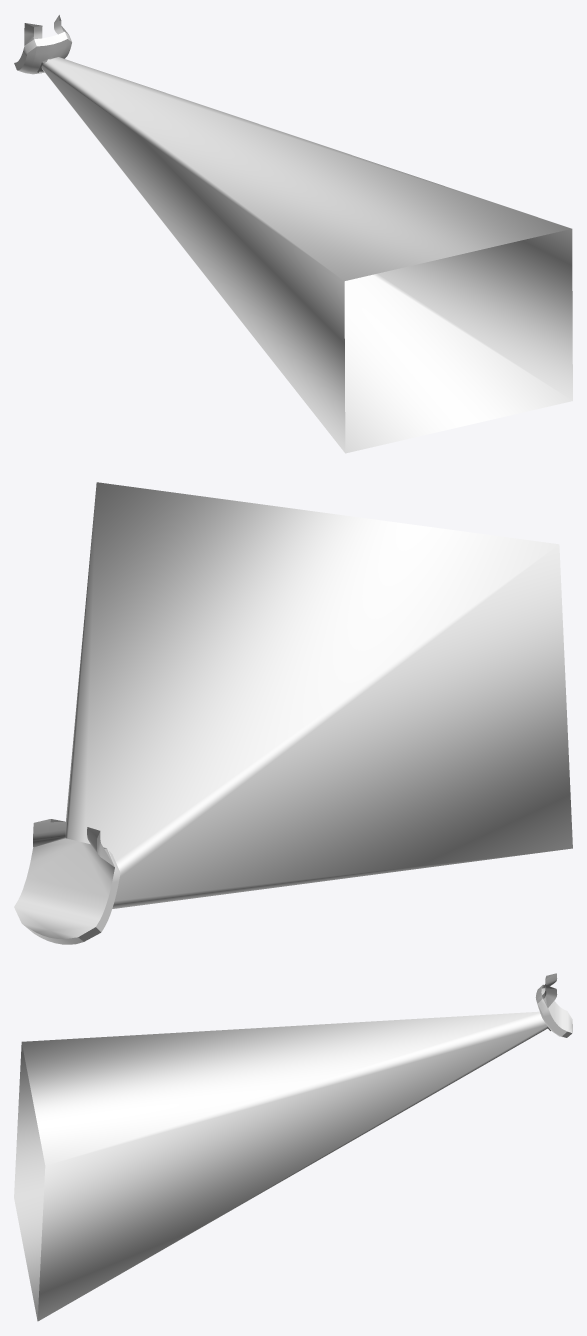
File: Projector_Clean.fbx
3 views of the same model, one above another, from view 1: azimuth 30°, elevation 25°; view 2: azimuth 150°, elevation 25°; view 3: azimuth 270°, elevation 25° (orthographic). The views are drawn at different scales.
Parts seen in each view (by area): view 1: PROJECTED_LIGHT, PROJECTOR_Clean; view 2: PROJECTED_LIGHT, PROJECTOR_Clean; view 3: PROJECTED_LIGHT, PROJECTOR_Clean.
Part boxes in pixels (x1,y1,x2,y2): PROJECTED_LIGHT: (41,57,572,453); PROJECTOR_Clean: (14,15,71,74); PROJECTED_LIGHT: (65,482,572,908); PROJECTOR_Clean: (14,819,120,944); PROJECTED_LIGHT: (14,1011,547,1321); PROJECTOR_Clean: (535,973,572,1037).
Bounding box in the file's own units: 214 × 177 × 397.
